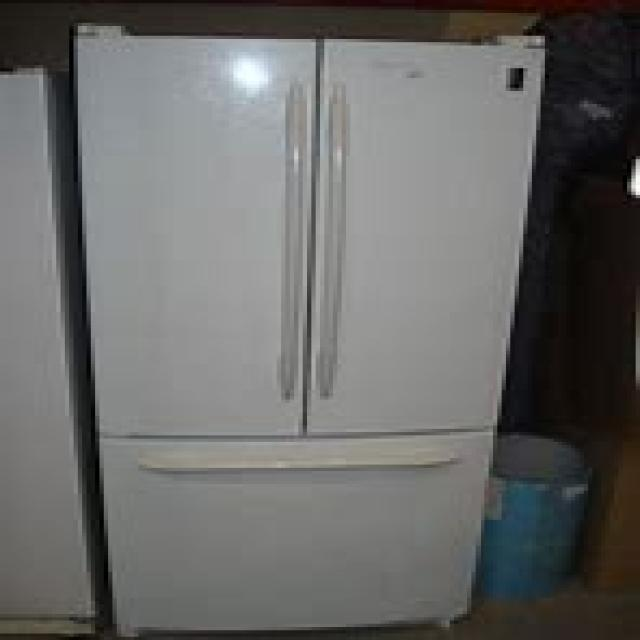fridge: (69, 19, 545, 634)
